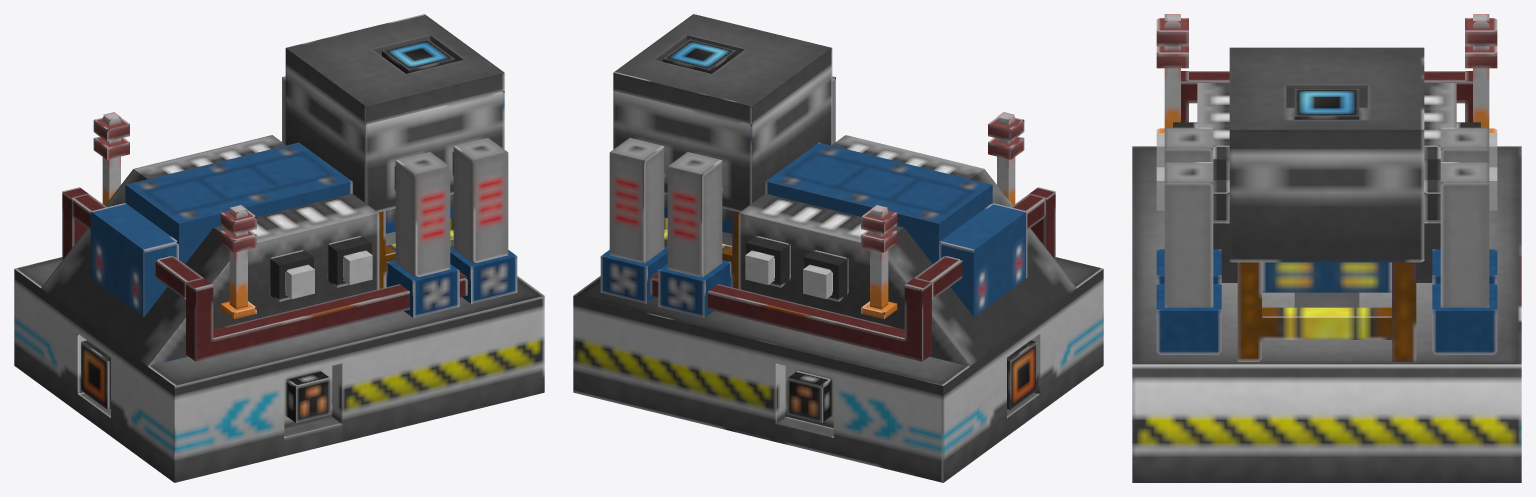
File: continuous_cating.obj
3 views of the same model, side by side, from view 1: azimuth 30°, elevation 25°; view 2: azimuth 150°, elevation 25°; view 3: azimuth 270°, elevation 25° (orthographic). The views are drawn at different scales.
Visible parts, largest first — view 1: cube.base_cube.059, cube.011, cube.015, cube.040, cube.048, cube.063, cube.031; view 2: cube.base_cube.059, cube.011, cube.015, cube.040, cube.048, cube.063, cube.031; view 3: cube.base_cube.059, cube.015, cube.040, cube.031, cube.063, cube.011, cube.027, cube.048.
Part boxes in pixels (<box>): cube.base_cube.059: <box>14,257,544,482</box>; cube.011: <box>41,135,379,366</box>; cube.015: <box>285,14,504,212</box>; cube.040: <box>282,76,517,317</box>; cube.048: <box>62,187,467,361</box>; cube.063: <box>93,112,372,319</box>; cube.031: <box>378,211,453,288</box>; cube.base_cube.059: <box>573,257,1103,482</box>; cube.011: <box>738,135,1076,366</box>; cube.015: <box>613,14,832,212</box>; cube.040: <box>600,76,835,317</box>; cube.048: <box>650,187,1055,361</box>; cube.063: <box>745,112,1024,319</box>; cube.031: <box>664,211,739,288</box>; cube.base_cube.059: <box>1132,146,1521,482</box>; cube.015: <box>1229,47,1424,262</box>; cube.040: <box>1156,127,1497,354</box>; cube.031: <box>1237,262,1416,361</box>; cube.063: <box>1156,14,1497,210</box>; cube.011: <box>1197,83,1456,282</box>; cube.027: <box>1262,262,1391,307</box>; cube.048: <box>1181,71,1472,122</box>.
Size of the model in its own units: 4 by 3 by 3.
